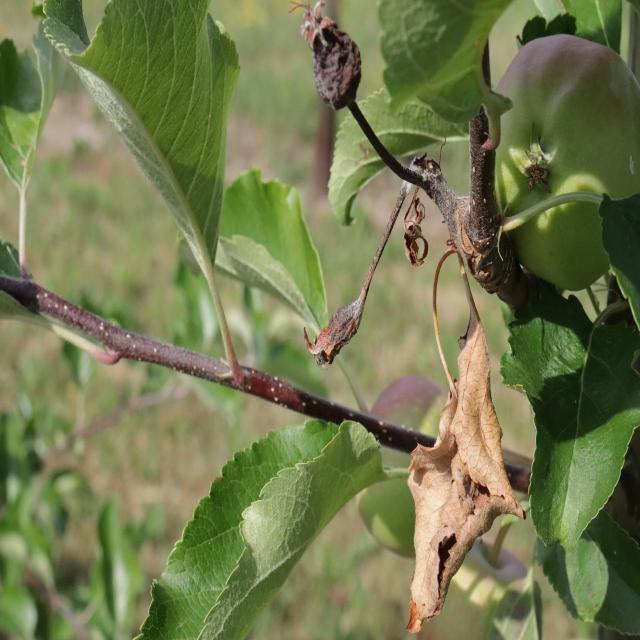-FireBlight-: (296, 9, 520, 630)
